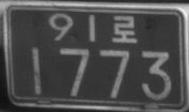1: (22, 46, 51, 94), (80, 14, 104, 42)
3: (140, 49, 172, 101)
7: (58, 46, 90, 97), (99, 49, 130, 99)
9: (48, 12, 73, 41)
로: (111, 15, 137, 43)
